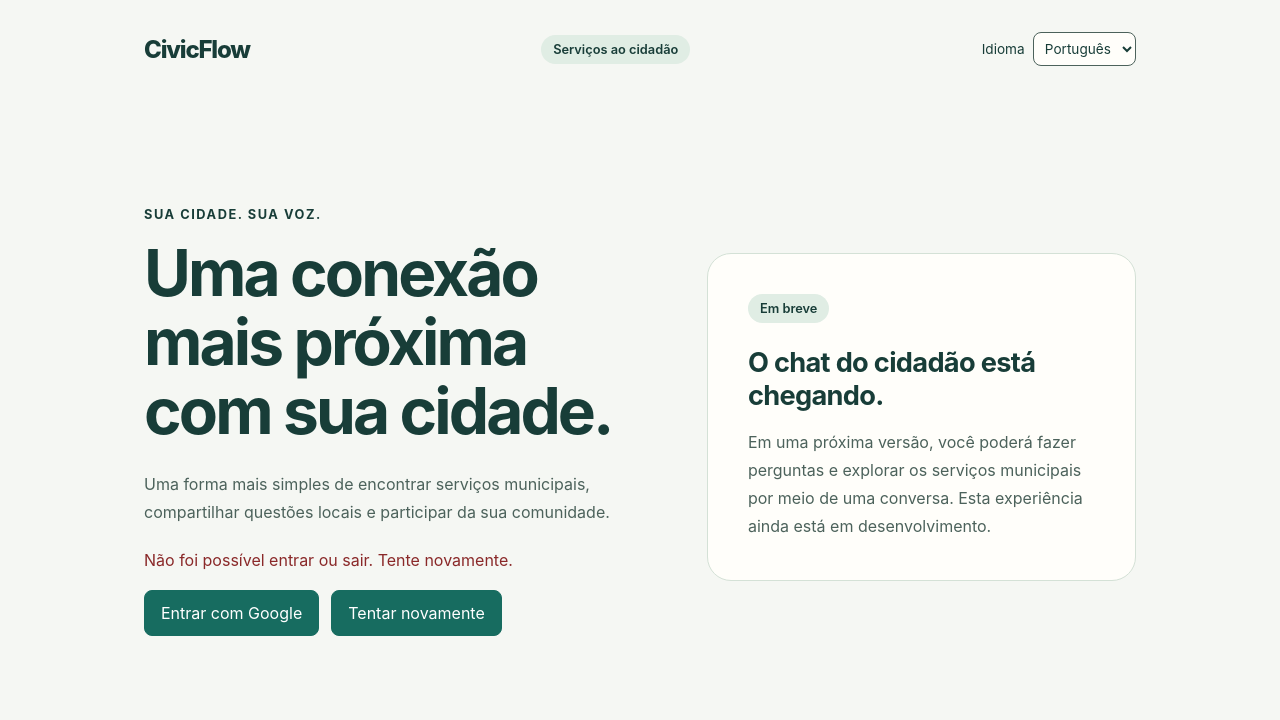
it: reports service failure and allows retry
The width and height of the screenshot is (1280, 720).
Check: the message shows "Não foi possível", box 144,550 -> 513,570
What coordinates should you click on to do the following:
click the button "Tentar novamente"
I would click on:
 (416, 612)
Its box is 331,590 -> 502,636.
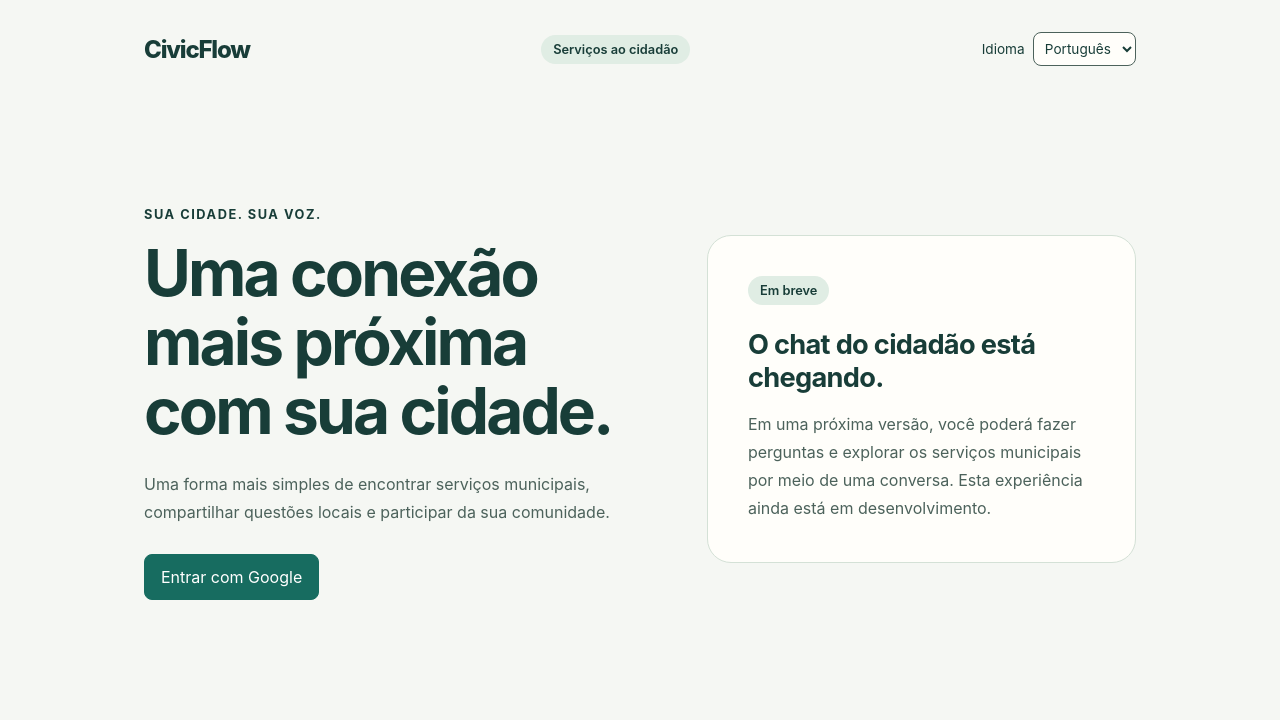
Check: the message "Não foi possível entrar ou sair. Tente novamente." is gone
